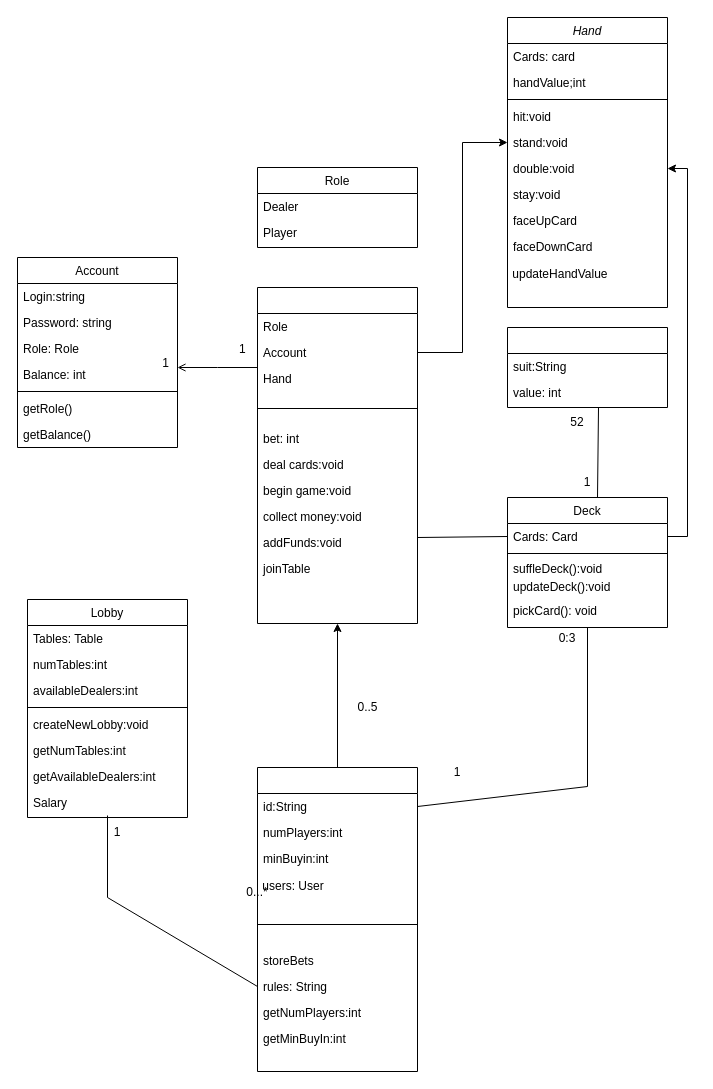
This 713x1089 diagram has some shape labels left out. Each missing label, with the box of its shape:
Card: (506, 326, 668, 408)
Table: (256, 766, 418, 1072)
User: (256, 286, 418, 624)
